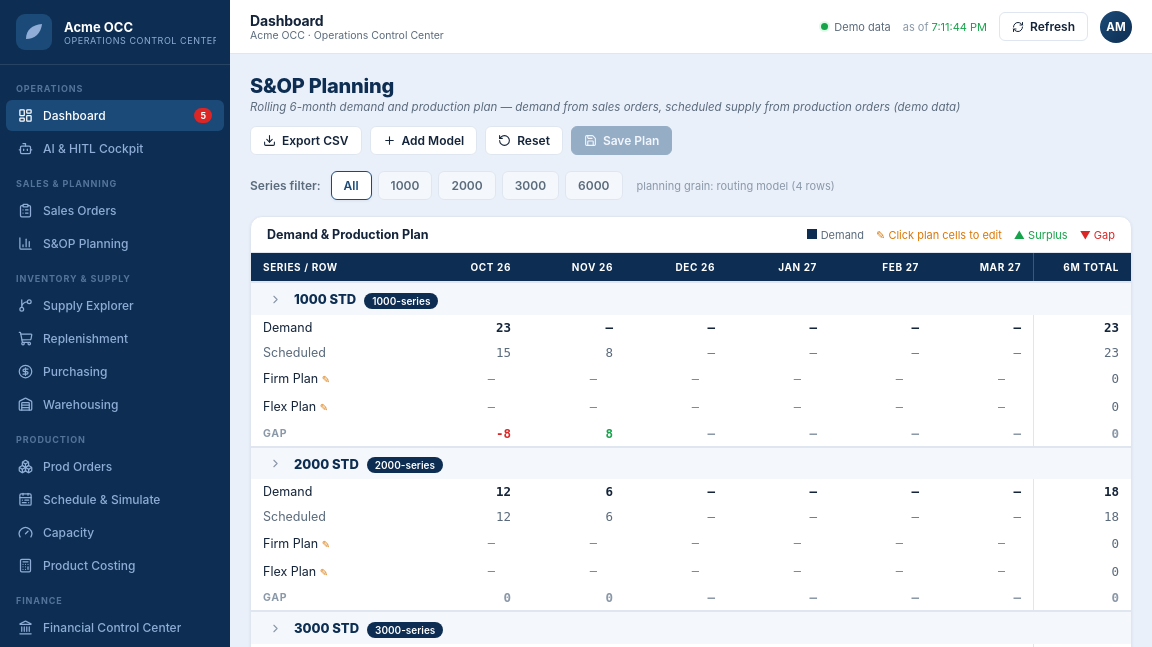
Test: S&OP page › Add Model creates a plan-only row that persists once a quantity is saved
Expected: the heading "S&OP Planning" is shown, [250, 74, 394, 98]
Click the button "Add Model": (423, 140) [370, 126, 477, 155]
(page scrolled)
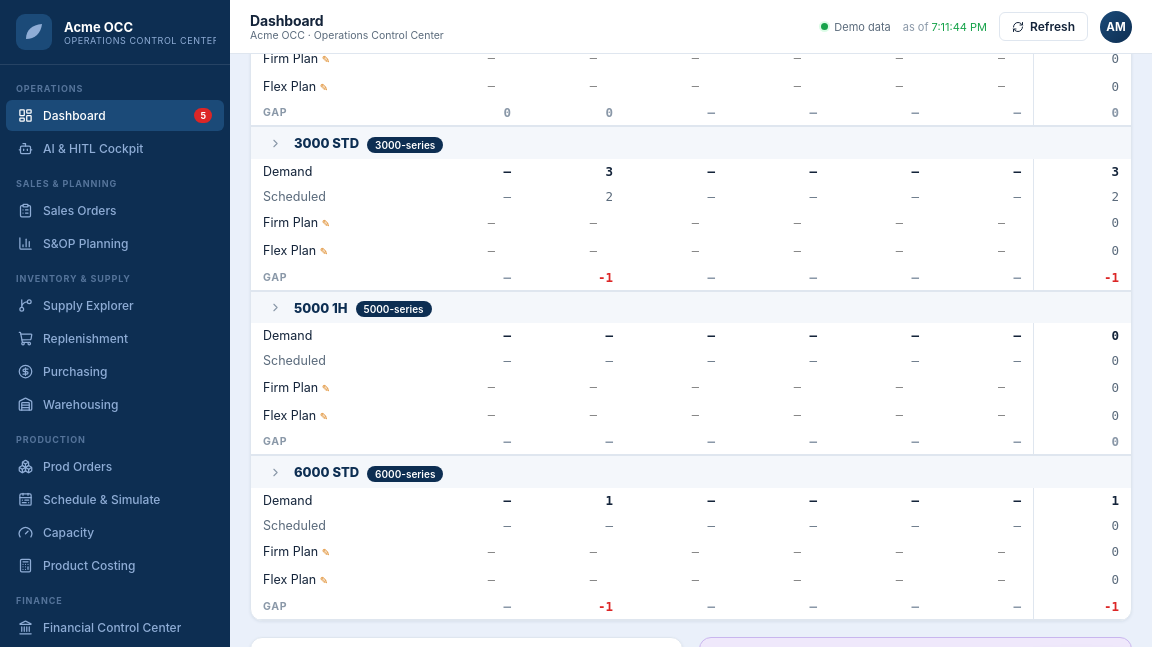
Now the text "5000 1H" is shown, box [294, 300, 348, 316]
In the number field named "Firm Plan 5000 1H Nov 26": (583, 387) [547, 375, 619, 399], type "3"
(page scrolled)
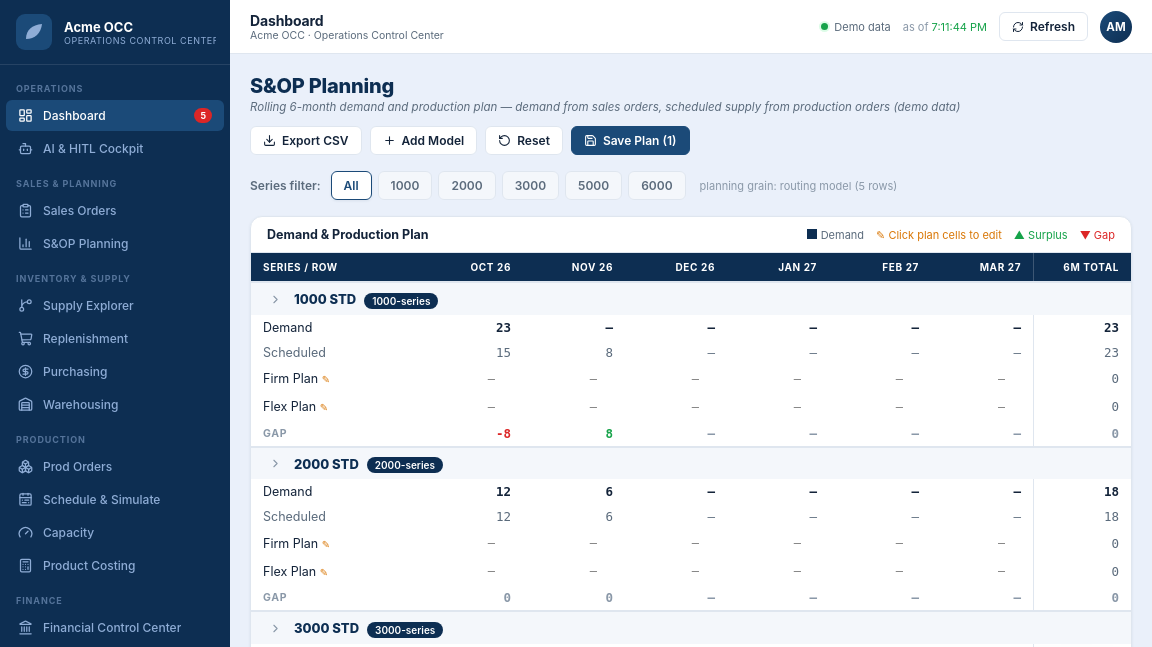
Click the button "Save Plan (1)": (630, 140) [571, 126, 690, 155]
(page scrolled)
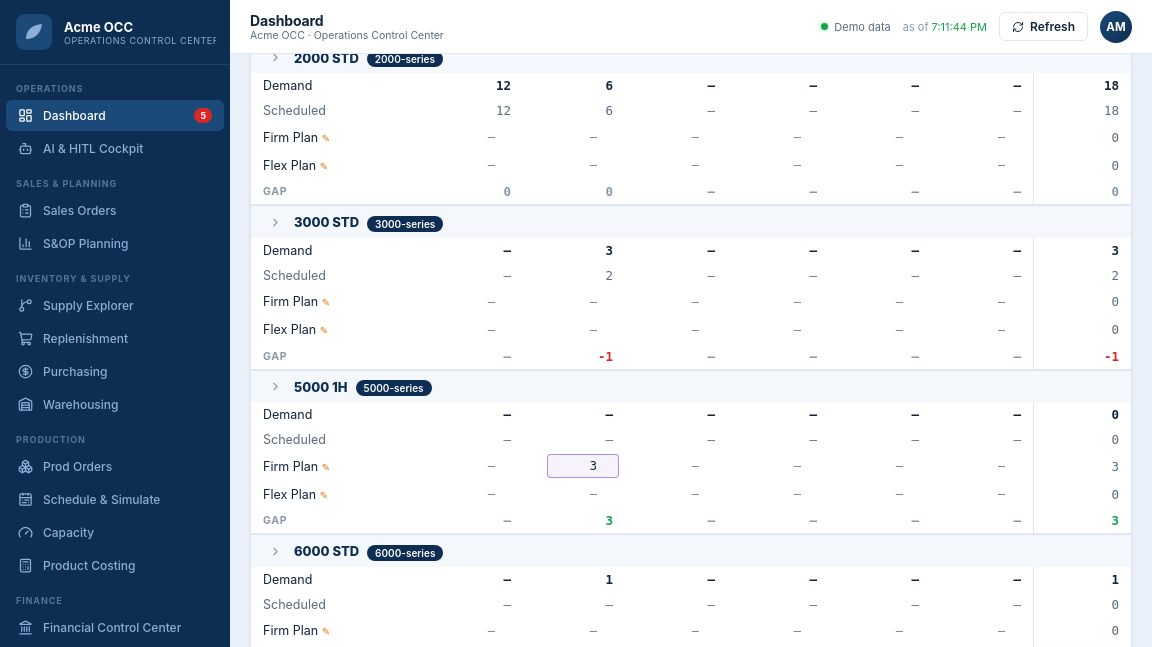
Now the text "5000 1H" is shown, box [294, 379, 348, 395]
